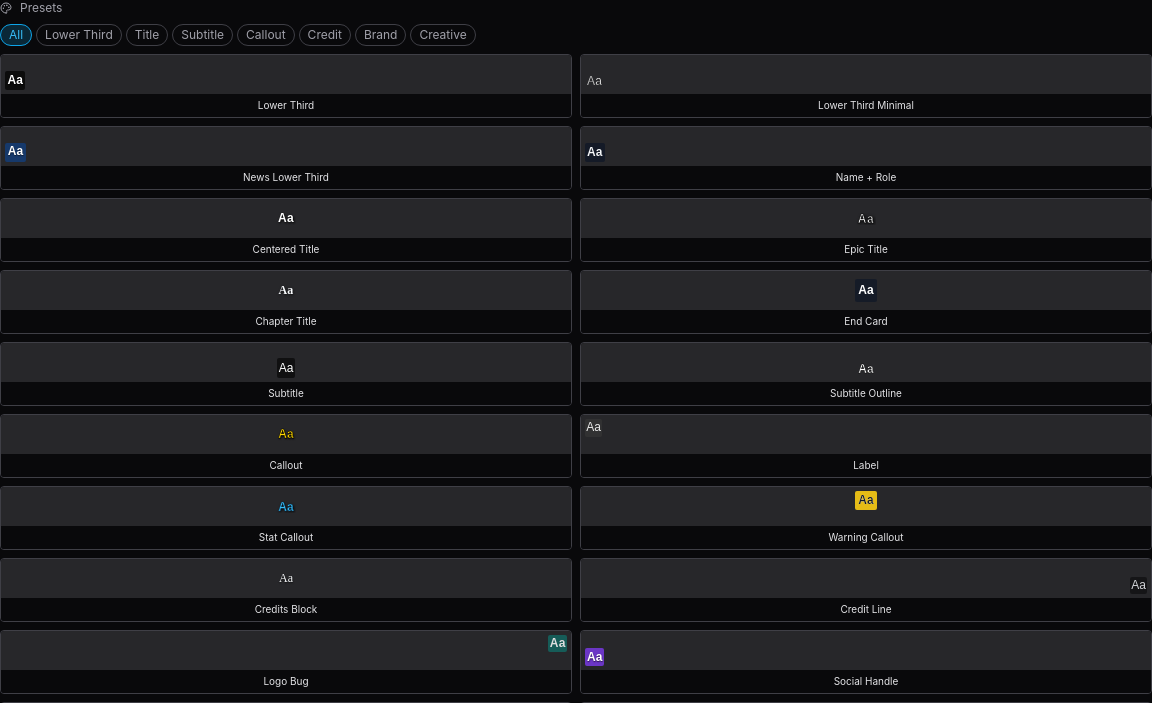
Test case: TextPresetPicker › category filtering › should filter presets on category click
This screenshot has width=1152, height=703.
Note: Click the Title category tab
Click the button with test id "category-tab-title" at (147,35), box [126,24,168,46]
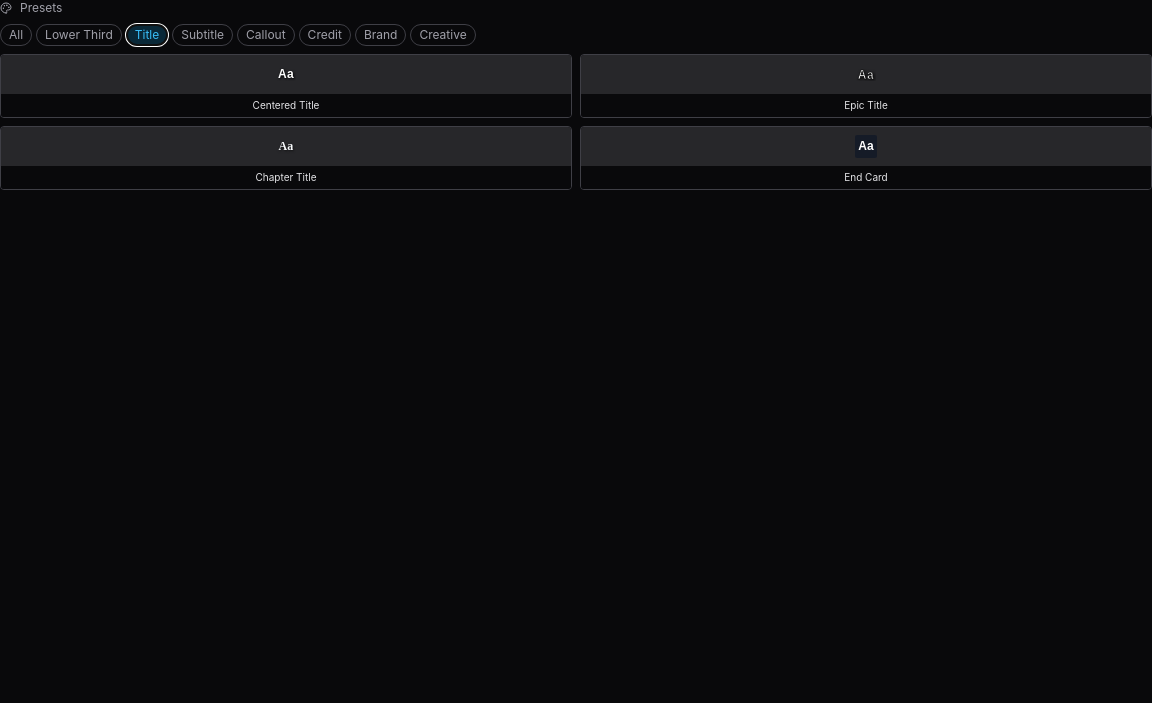
Expected: the button with test id "preset-button-centered-title" is shown, [0,54,572,118]
Now the button with test id "preset-button-lower-third" is gone
Now the button with test id "preset-button-subtitle" is gone
